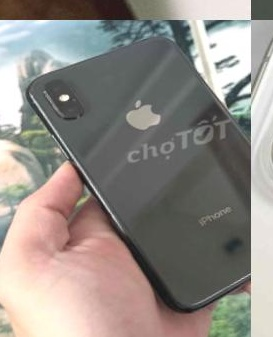scratch: (63, 91, 84, 108), (148, 156, 168, 170)
